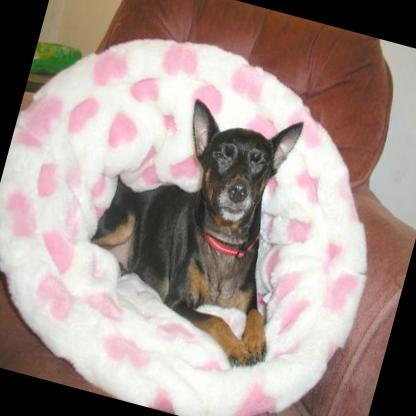miniature_pinscher: (66, 75, 326, 373)
